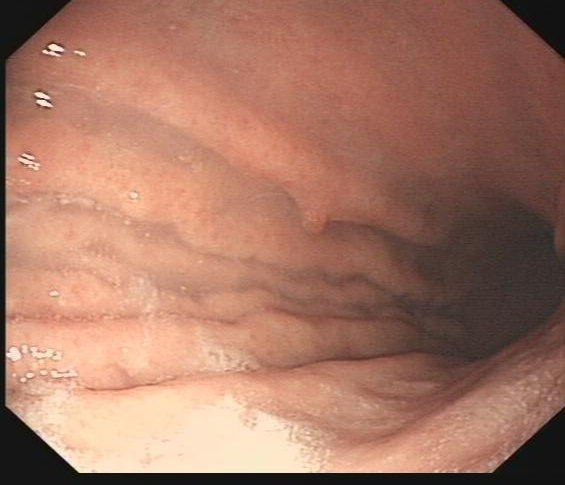Polyp: (293, 186, 345, 261)
